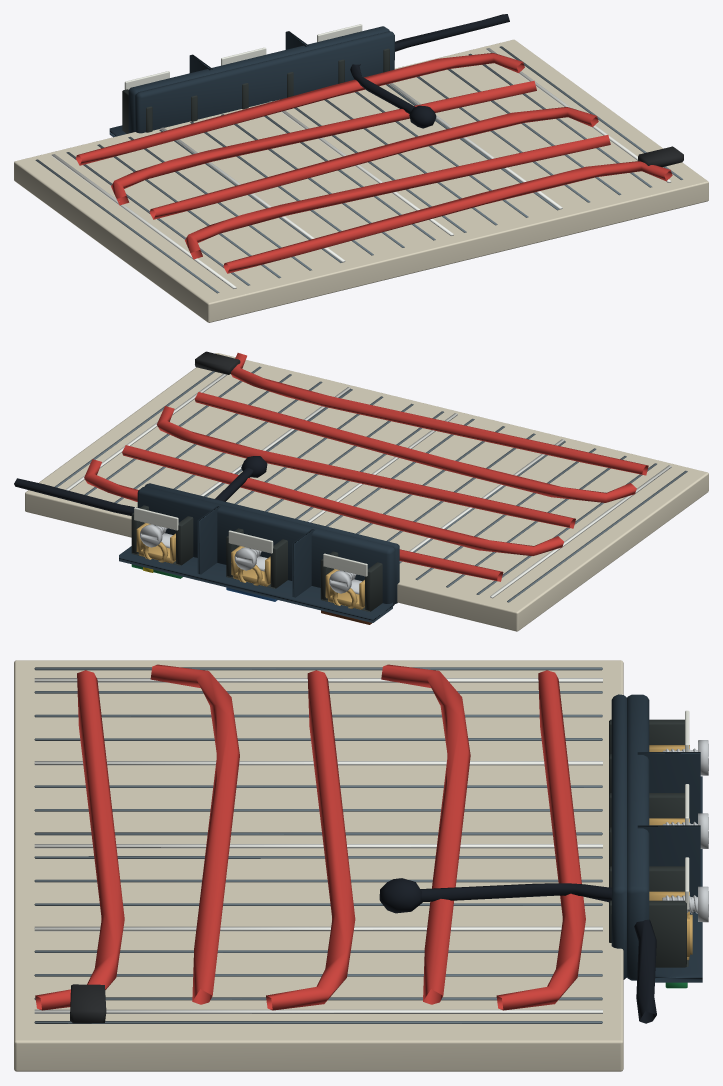
Rendered from heater_mat.low.glb.
The picture shows the model from 3 angles, top to bottom: view 1: azimuth 30°, elevation 25°; view 2: azimuth 150°, elevation 25°; view 3: azimuth 270°, elevation 25°; orthographic projection. The views are drawn at different scales.
Visible parts, largest first — view 1: part:body, part:element · Original b2804608, part:terminals · Original a463fd81, part:body · Original 0905ee26, detail:heat-transfer-construction · Detail porcelain white, part:body.001 · Original 3ff2d46d, Cold tail sealed splice, detail:terminal-clamp:L · Detail moulded engineering polymer; view 2: part:body, part:element · Original b2804608, part:terminals · Original a463fd81, part:body · Original 0905ee26, detail:heat-transfer-construction · Detail porcelain white, part:body.001 · Original 3ff2d46d, detail:terminal-clamp:L · Detail moulded engineering polymer, detail:terminal-clamp:PE · Detail moulded engineering polyme, detail:terminal-clamp:N · Detail moulded engineering polymer, detail:terminal-clamp:L · Detail machined brass, detail:terminal-clamp:N · Detail machined brass, detail:terminal-clamp:PE · Detail machined brass (+7 smaller); view 3: part:body, part:element · Original b2804608, part:body · Original 0905ee26, part:terminals · Original a463fd81, detail:heat-transfer-construction · Detail porcelain white, part:body.001 · Original 3ff2d46d, detail:terminal-clamp:PE · Detail moulded engineering polyme, Cold tail sealed splice, detail:terminal-clamp:L · Detail moulded engineering polymer, detail:terminal-clamp:N · Detail moulded engineering polymer, detail:terminal-clamp:PE · Detail zinc plated fixing.
Part boxes in pixels (left/top/right/bottom): part:body: left=14, top=39, right=708, bottom=322; part:element · Original b2804608: left=76, top=53, right=672, bottom=273; part:terminals · Original a463fd81: left=109, top=26, right=394, bottom=137; part:body · Original 0905ee26: left=35, top=46, right=682, bottom=293; detail:heat-transfer-construction · Detail porcelain white: left=51, top=48, right=671, bottom=288; part:body.001 · Original 3ff2d46d: left=350, top=14, right=509, bottom=128; Cold tail sealed splice: left=638, top=146, right=683, bottom=167; detail:terminal-clamp:L · Detail moulded engineering polymer: left=122, top=89, right=197, bottom=133; part:body: left=25, top=353, right=708, bottom=631; part:element · Original b2804608: left=84, top=353, right=648, bottom=581; part:terminals · Original a463fd81: left=119, top=483, right=399, bottom=622; part:body · Original 0905ee26: left=54, top=366, right=687, bottom=602; detail:heat-transfer-construction · Detail porcelain white: left=65, top=374, right=671, bottom=598; part:body.001 · Original 3ff2d46d: left=14, top=456, right=267, bottom=515; detail:terminal-clamp:L · Detail moulded engineering polymer: left=320, top=551, right=382, bottom=611; detail:terminal-clamp:PE · Detail moulded engineering polyme: left=131, top=505, right=193, bottom=565; detail:terminal-clamp:N · Detail moulded engineering polymer: left=226, top=528, right=287, bottom=588; detail:terminal-clamp:L · Detail machined brass: left=325, top=569, right=364, bottom=609; detail:terminal-clamp:N · Detail machined brass: left=231, top=546, right=270, bottom=586; detail:terminal-clamp:PE · Detail machined brass: left=136, top=523, right=175, bottom=563; part:body: left=14, top=660, right=623, bottom=1071; part:element · Original b2804608: left=35, top=664, right=585, bottom=1010; part:body · Original 0905ee26: left=34, top=667, right=602, bottom=1023; part:terminals · Original a463fd81: left=611, top=694, right=702, bottom=982; detail:heat-transfer-construction · Detail porcelain white: left=34, top=678, right=602, bottom=1013; part:body.001 · Original 3ff2d46d: left=379, top=878, right=656, bottom=1023; detail:terminal-clamp:PE · Detail moulded engineering polyme: left=609, top=866, right=688, bottom=967; Cold tail sealed splice: left=70, top=984, right=106, bottom=1023; detail:terminal-clamp:L · Detail moulded engineering polymer: left=609, top=719, right=684, bottom=793; detail:terminal-clamp:N · Detail moulded engineering polymer: left=609, top=793, right=684, bottom=867; detail:terminal-clamp:PE · Detail zinc plated fixing: left=662, top=886, right=708, bottom=922.
Bounding box in the file's own units: 1.29 × 0.1679 × 0.9927.
